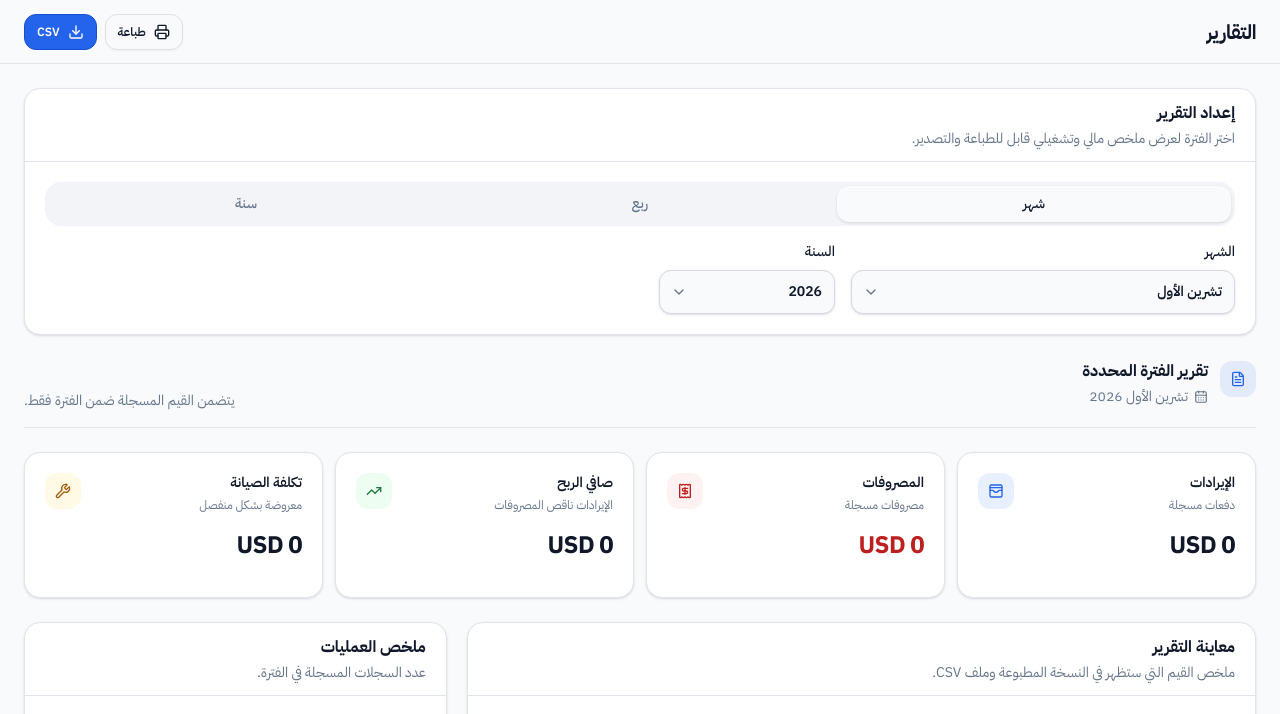
Test: ReportsPage › exports the summary as a CSV download
Click the button "CSV" at (60, 32), box [24,14,96,50]
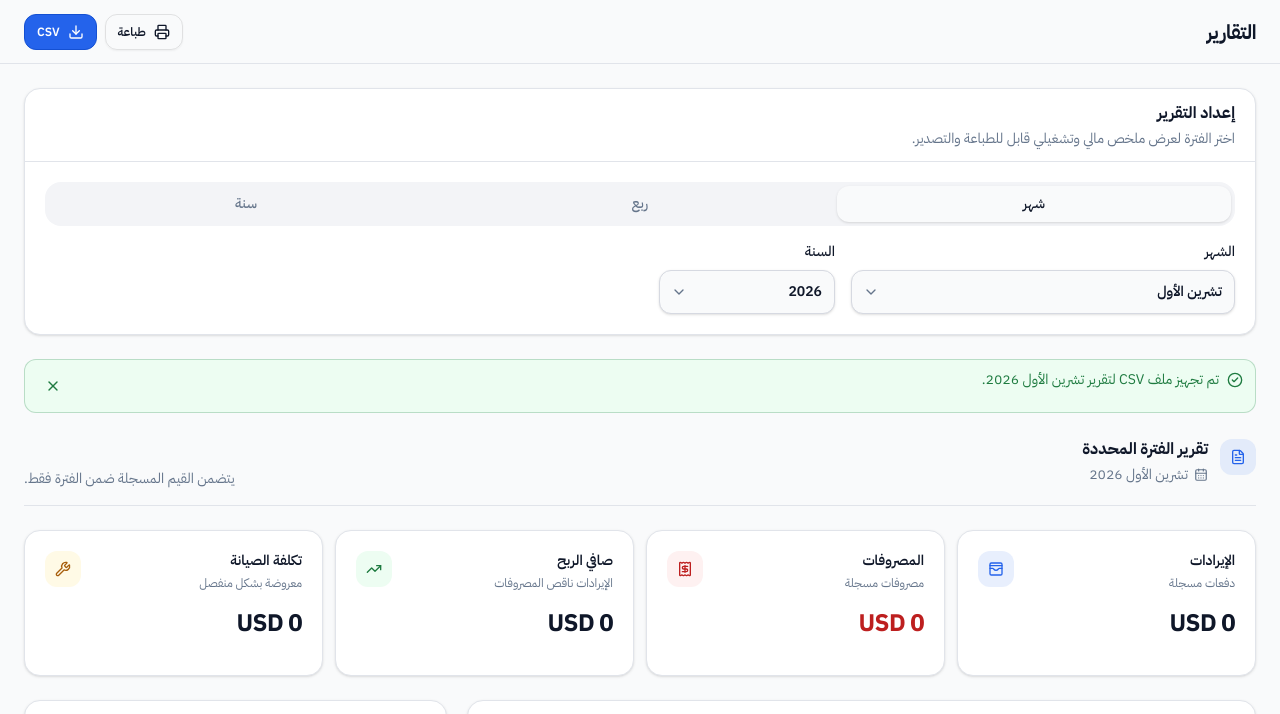
Expected: the text "تم تجهيز ملف CSV لتقرير تشرين الأول 2026." is shown, [982,369,1219,390]
Click the button named "إغلاق" at (53, 386), box [33,366,73,406]
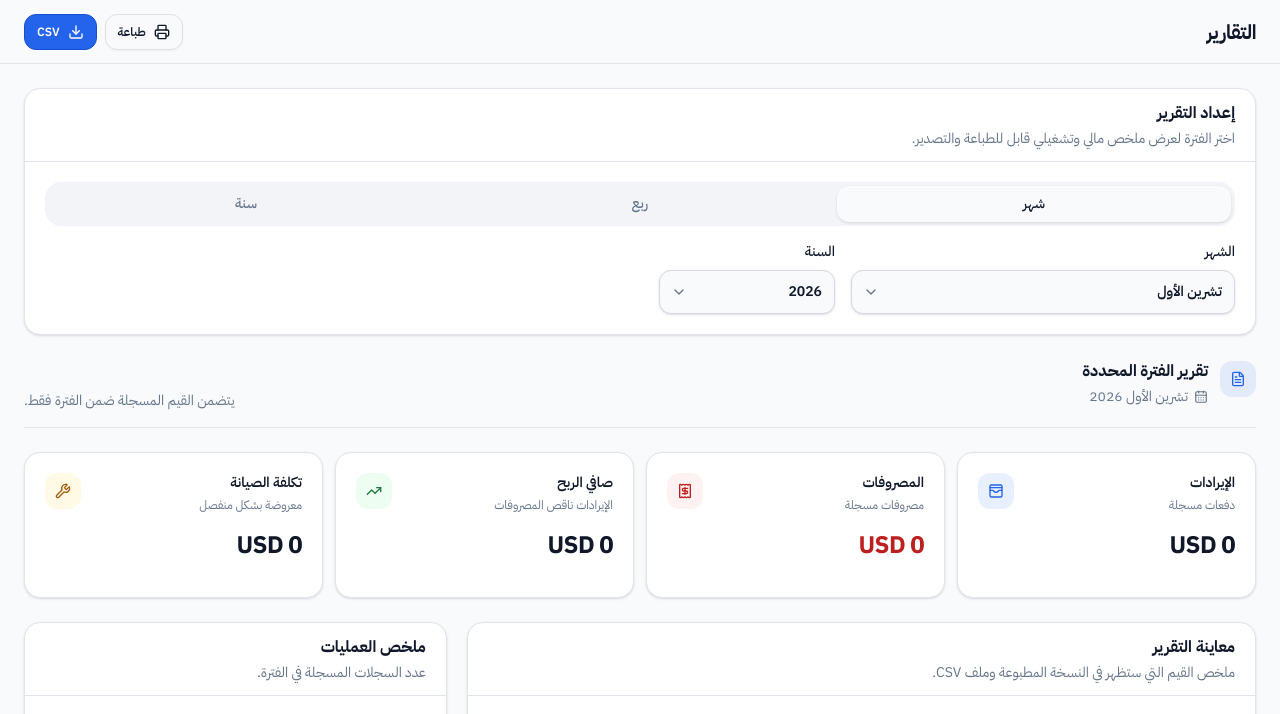
Expected: the text "تم تجهيز ملف CSV" is gone
